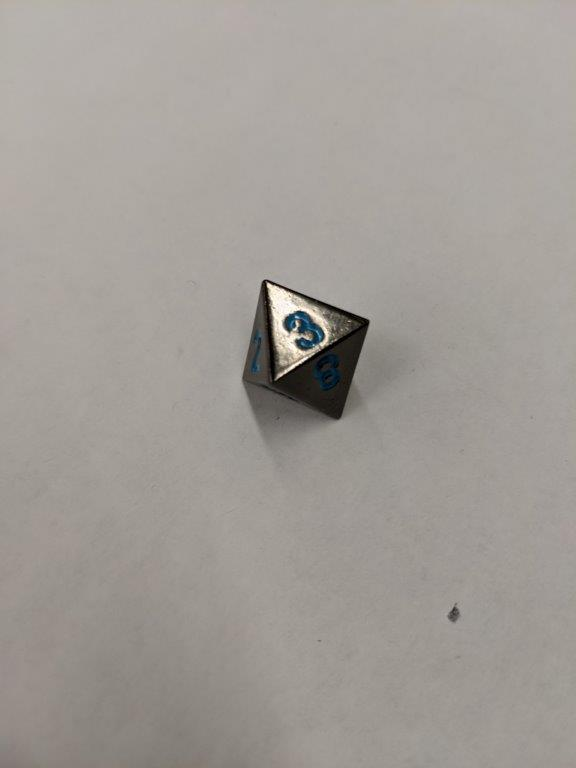d8-3: (238, 278, 371, 423)
